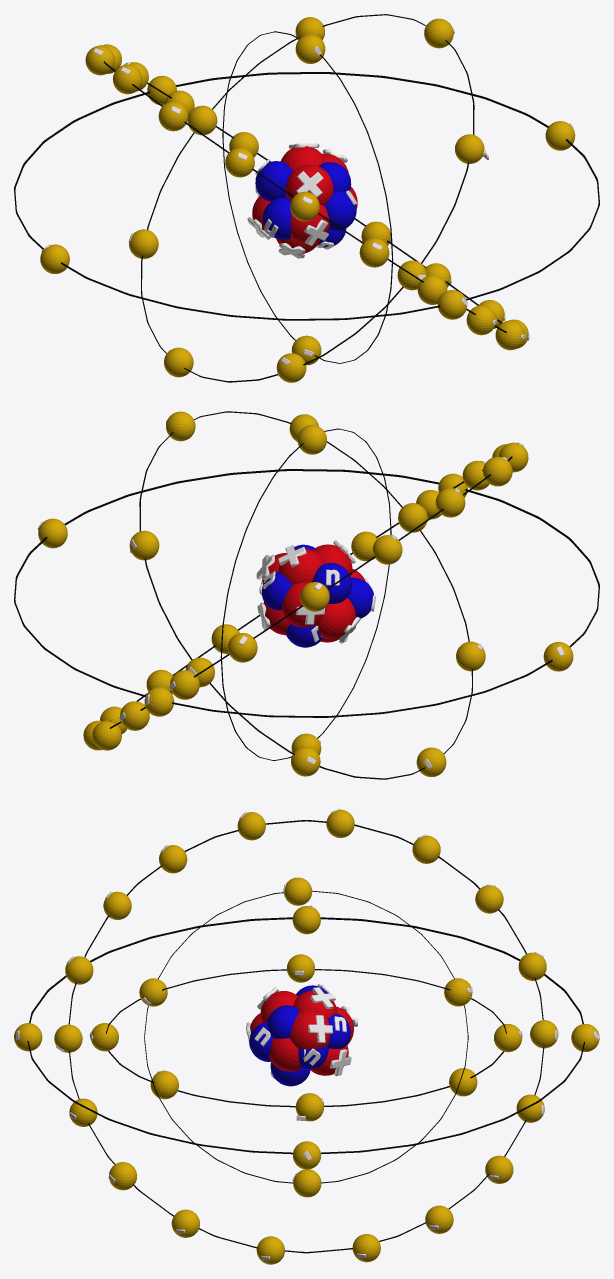
The picture shows the model from 3 angles, top to bottom: view 1: azimuth 30°, elevation 25°; view 2: azimuth 150°, elevation 25°; view 3: azimuth 270°, elevation 25°; orthographic projection. The views are drawn at different scales.
Visible parts, largest first — view 1: Circle.003, Circle.001, Circle, Sphere.015, Sphere.014, Sphere.012, Sphere.018, Circle.002, Sphere.007, Sphere.026, Sphere.016, Sphere.013 (+22 smaller); view 2: Circle.003, Circle.001, Circle, Sphere.011, Sphere.007, Sphere.015, Circle.002, Sphere.005, Sphere.018, Sphere.027, Sphere.026, Sphere.003 (+23 smaller); view 3: Circle.003, Circle.002, Circle.001, Circle, Sphere.030, Sphere, Sphere.024, Sphere.002, Sphere.035, Sphere.040, Sphere.041, Sphere.003 (+29 smaller).
Boxes of the visible parts, bbox=[...] form: Circle.003: bbox=[14, 72, 599, 320]; Circle.001: bbox=[141, 14, 474, 382]; Circle: bbox=[222, 31, 393, 363]; Sphere.015: bbox=[255, 161, 292, 201]; Sphere.014: bbox=[285, 164, 333, 205]; Sphere.012: bbox=[324, 191, 356, 231]; Sphere.018: bbox=[262, 197, 291, 239]; Circle.002: bbox=[103, 61, 506, 332]; Sphere.007: bbox=[281, 146, 325, 171]; Sphere.026: bbox=[424, 18, 453, 48]; Sphere.016: bbox=[164, 347, 193, 377]; Sphere.013: bbox=[455, 134, 484, 163]; Circle.003: bbox=[14, 469, 599, 717]; Circle.001: bbox=[139, 411, 472, 779]; Circle: bbox=[220, 428, 391, 760]; Sphere.011: bbox=[315, 597, 355, 639]; Sphere.007: bbox=[278, 548, 324, 584]; Sphere.015: bbox=[312, 563, 351, 603]; Circle.002: bbox=[109, 456, 512, 728]; Sphere.005: bbox=[281, 582, 327, 627]; Sphere.018: bbox=[347, 577, 373, 618]; Sphere.027: bbox=[262, 571, 292, 610]; Sphere.026: bbox=[166, 411, 195, 441]; Sphere.003: bbox=[297, 425, 326, 454]; Circle.003: bbox=[27, 917, 584, 1154]; Circle.002: bbox=[68, 820, 544, 1253]; Circle.001: bbox=[106, 969, 506, 1107]; Circle: bbox=[144, 890, 468, 1183]; Sphere.030: bbox=[289, 1011, 329, 1049]; Sphere: bbox=[269, 1038, 302, 1071]; Sphere.024: bbox=[267, 1005, 299, 1038]; Sphere.002: bbox=[293, 1169, 321, 1197]; Sphere.035: bbox=[475, 885, 503, 913]; Sphere.040: bbox=[292, 906, 320, 934]; Sphere.041: bbox=[412, 835, 440, 863]; Sphere.003: bbox=[284, 877, 311, 905].
Size of the model in its own units: 104 by 62.06 by 104.
